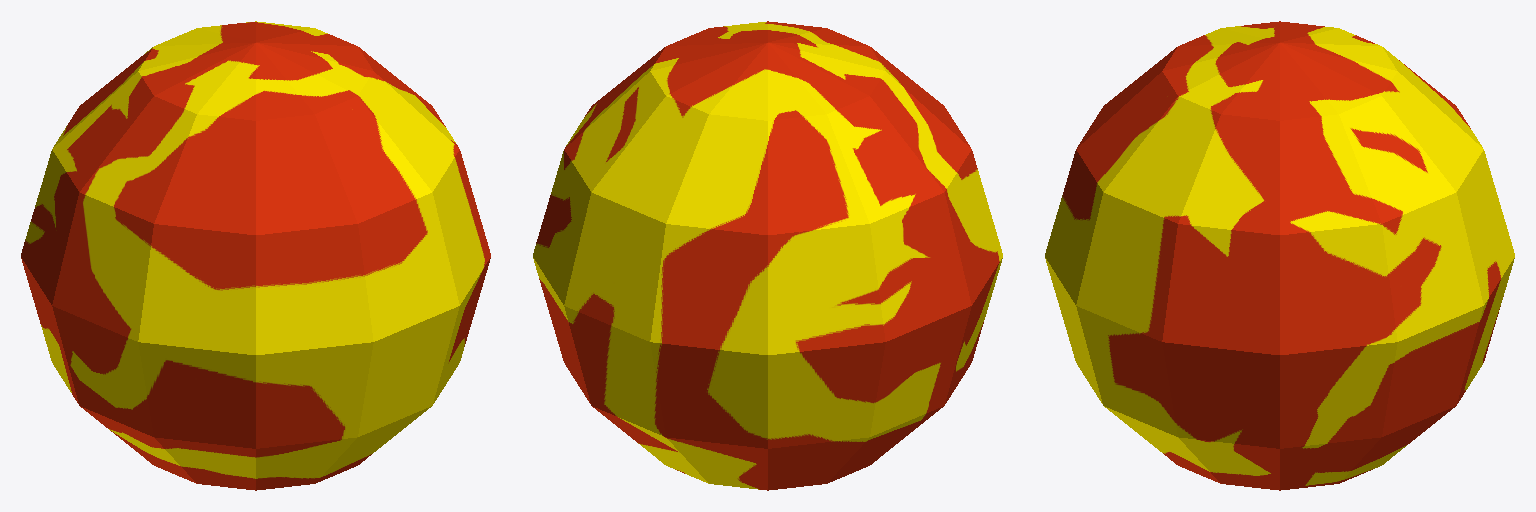
The picture shows the model from 3 angles: view 1: azimuth 30°, elevation 25°; view 2: azimuth 150°, elevation 25°; view 3: azimuth 270°, elevation 25°; orthographic projection.
Visible parts, largest first — view 1: Bar_Segment; view 2: Bar_Segment; view 3: Bar_Segment.
Boxes of the visible parts, box(x1,y1,x2,y2) form: Bar_Segment: box(21, 21, 490, 490); Bar_Segment: box(533, 21, 1002, 490); Bar_Segment: box(1045, 21, 1514, 490).
Bounding box in the file's own units: 2 × 2 × 2.
Materials: 1 (1 with a texture image).